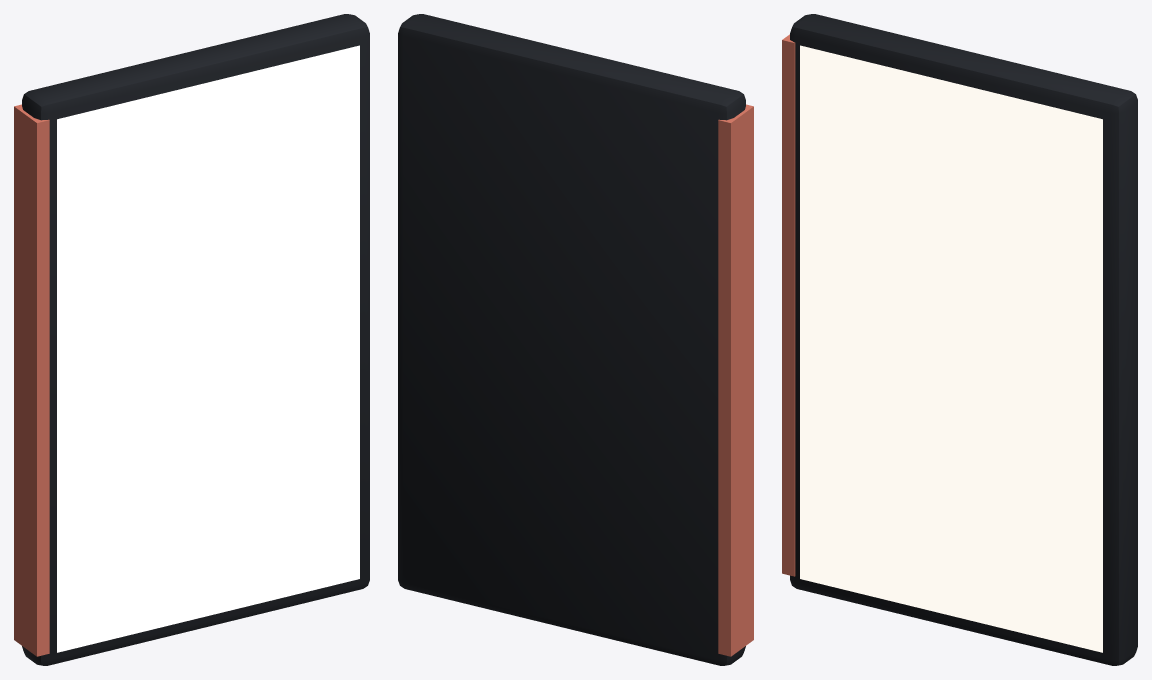
The model's file is gamebox.glb.
The picture shows the model from 3 angles, left to right: view 1: azimuth 30°, elevation 25°; view 2: azimuth 150°, elevation 25°; view 3: azimuth 330°, elevation 25°; orthographic projection.
Parts seen in each view (by area): view 1: cover, gamebox; view 2: gamebox; view 3: cover, gamebox.
Part boxes in pixels (x1,y1,x2,y2): cover: (57, 45, 359, 652); gamebox: (14, 14, 369, 665); gamebox: (398, 14, 753, 665); cover: (800, 45, 1102, 652); gamebox: (782, 14, 1137, 665).
Bounding box in the file's own units: 0.106 × 0.17 × 0.013.
